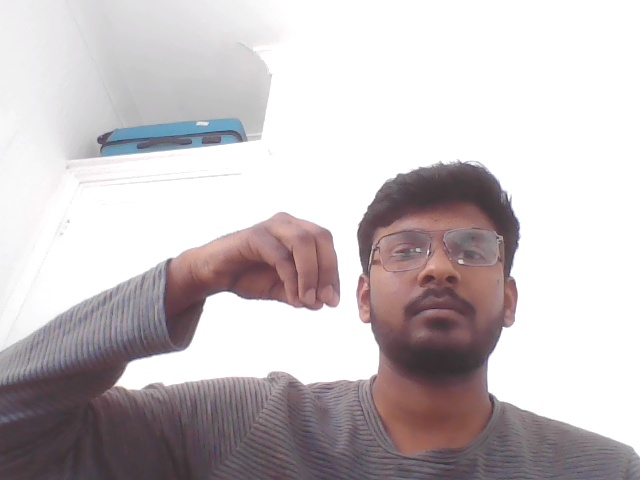Yes: (133, 174, 355, 365)
